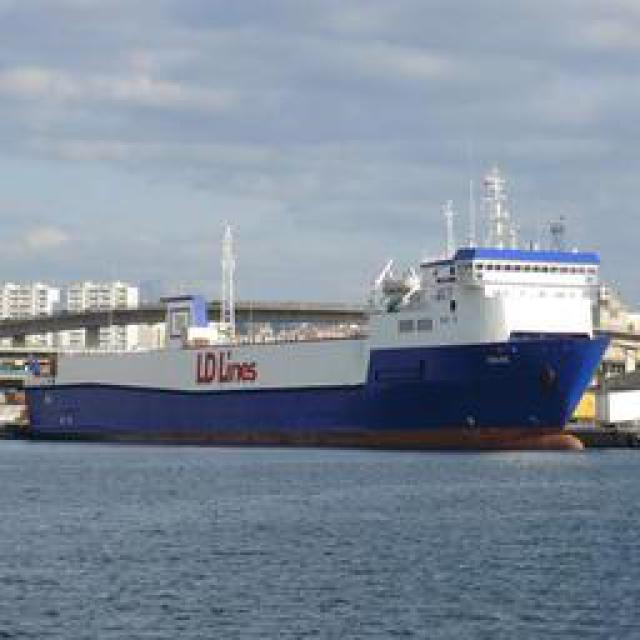Ship: (10, 236, 630, 444)
